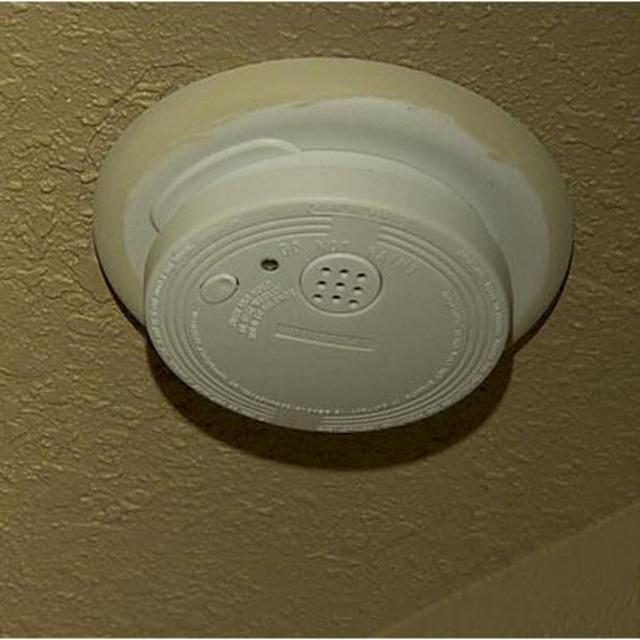Smoke-Detector: (95, 41, 572, 443)
